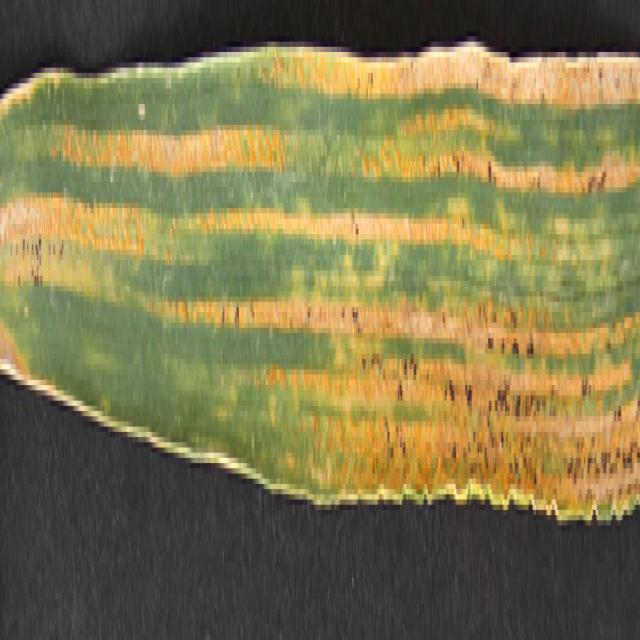leaf rust: (6, 62, 638, 494)
